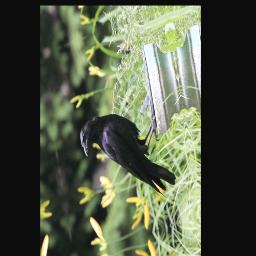Crow: (77, 90, 179, 225)
